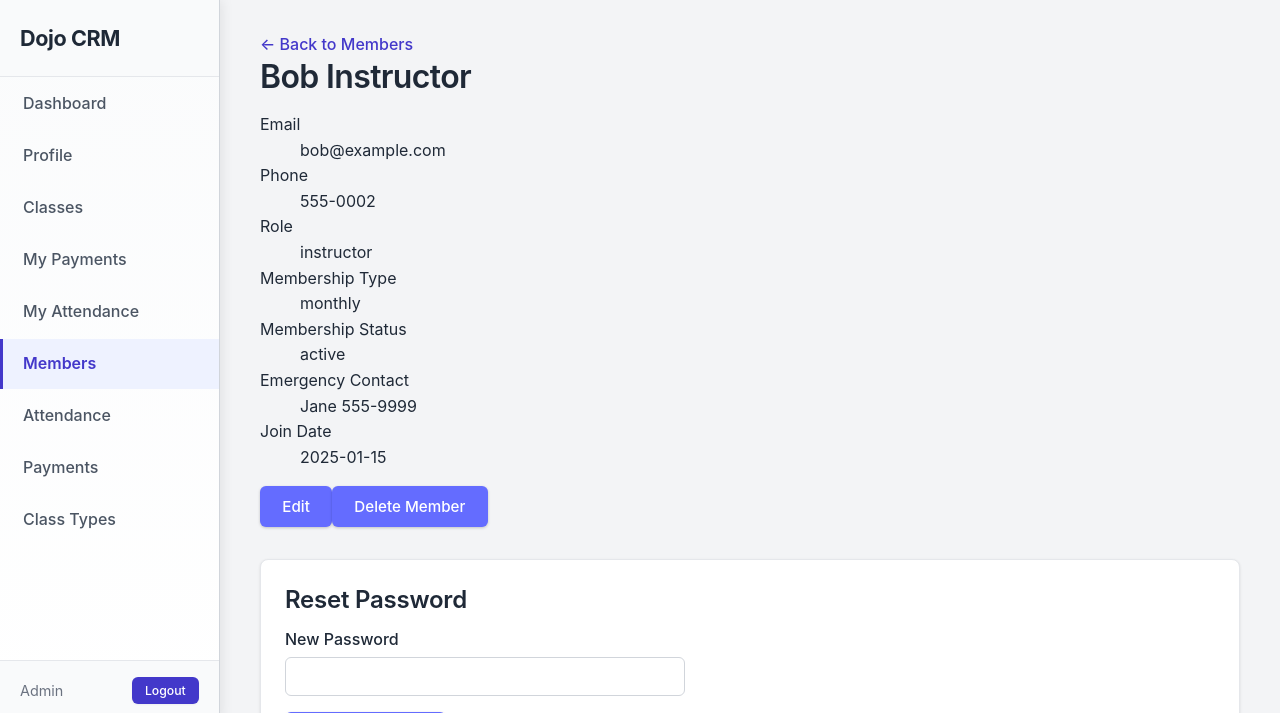
Scenario: MemberDetail › shows admin-only fields in edit mode for admin
Expected: the heading "Bob Instructor" is shown, [260,57,471,96]
Click the button "Edit" at (296, 507), box [260,486,332,527]
(page scrolled)
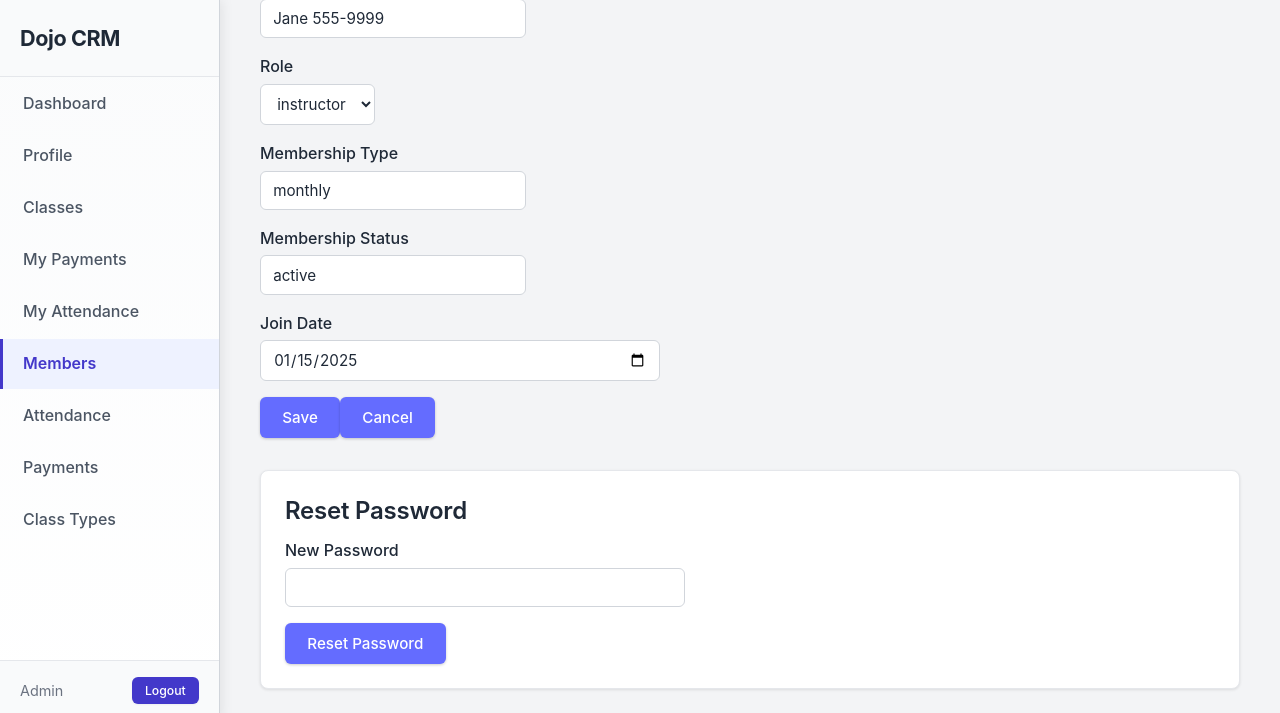
Now the dropdown labelled "Role" is shown, box [260,84,375,125]
Now the field labelled "Membership Type" is shown, box [260,171,526,210]
Now the field labelled "Membership Status" is shown, box [260,256,526,295]
